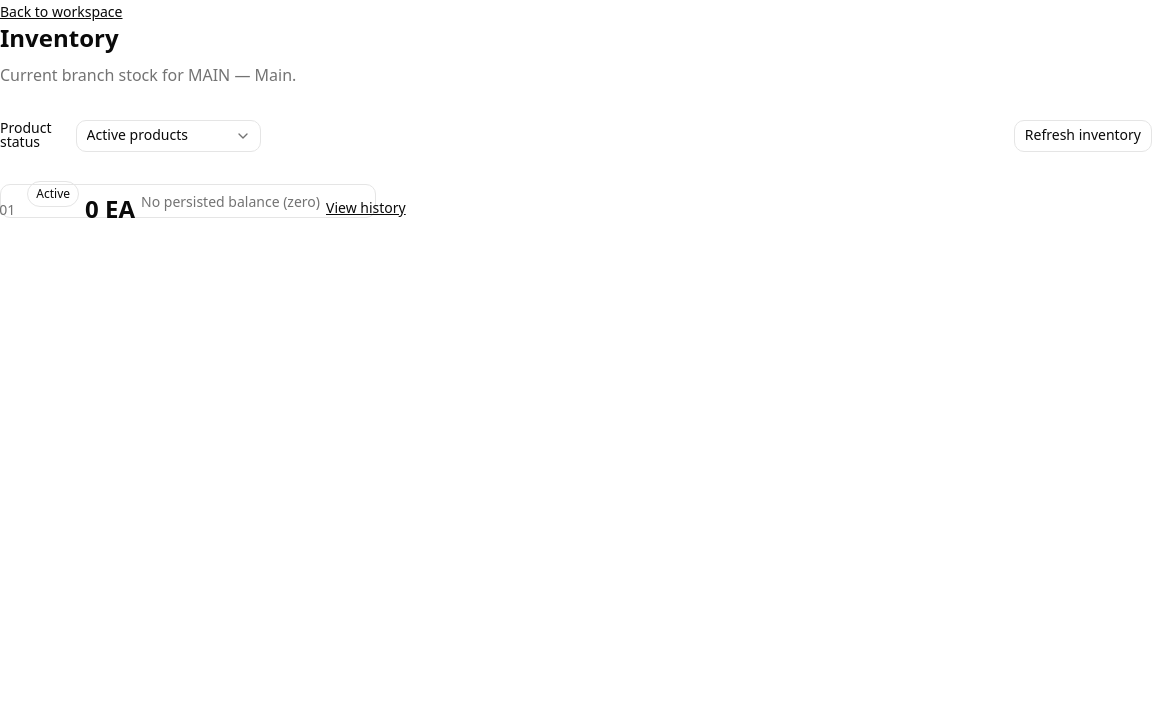
inventory management UI › renders a lazy zero balance and chronological history without numeric conversion
Check: the heading "Inventory" is shown, box [0, 22, 118, 58]
Check: the text "0 EA" is shown, box [85, 195, 135, 227]
What coordinates should you click on to do the following:
click the button "Tea"
I would click on:
 (188, 201)
Its box is [0, 184, 376, 218].
(page scrolled)
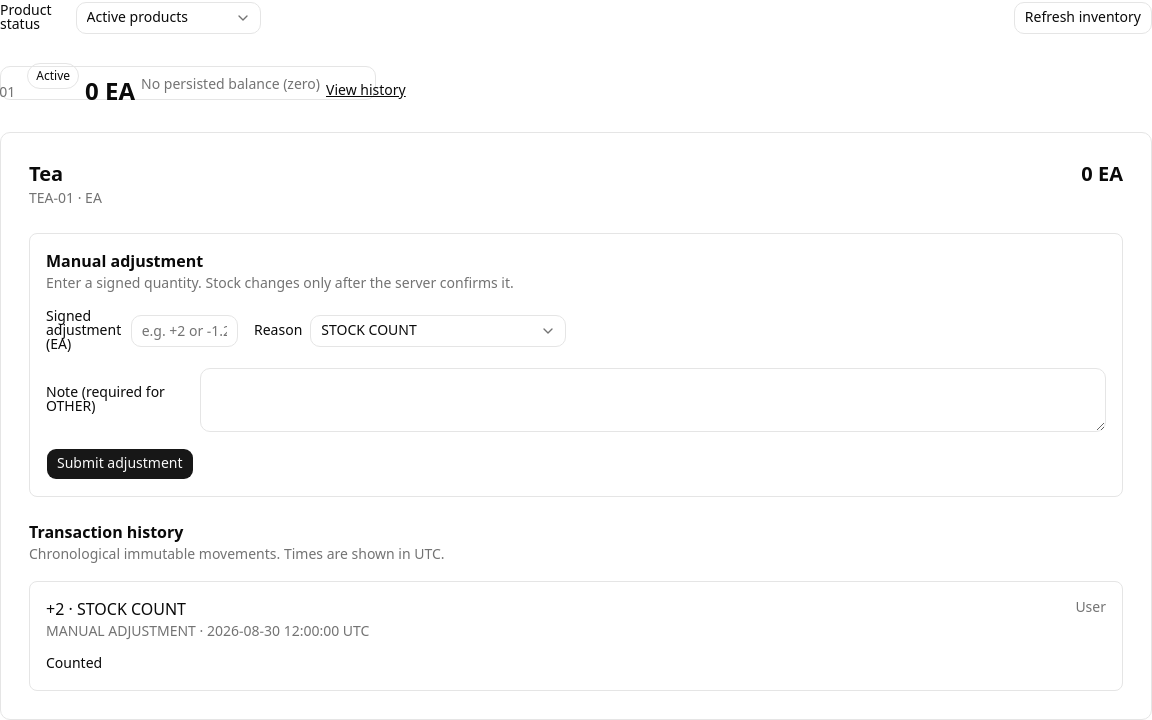
Check: the text "+2 · STOCK COUNT" is shown, box [46, 598, 186, 622]
Check: the text "MANUAL ADJUSTMENT · 2026-08-30 12:00:00 UTC" is shown, box [46, 622, 370, 642]
